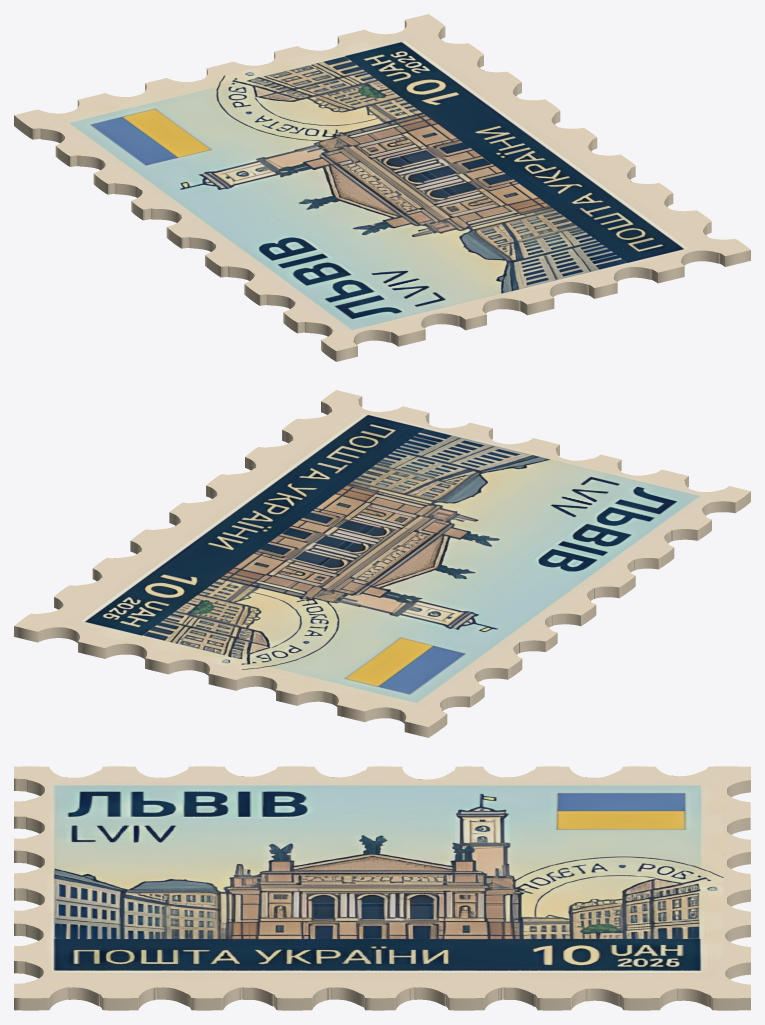
Rendered from Card_Lviv.glb.
3 views of the same model, one above another, from view 1: azimuth 30°, elevation 25°; view 2: azimuth 150°, elevation 25°; view 3: azimuth 270°, elevation 25° (orthographic). The views are drawn at different scales.
Parts seen in each view (by area): view 1: Curve; view 2: Curve; view 3: Curve.
Part boxes in pixels (left/top/right/bottom): Curve: left=14, top=14, right=750, bottom=361; Curve: left=14, top=390, right=750, bottom=737; Curve: left=14, top=766, right=750, bottom=1010.
Bounding box in the file's own units: 124 × 3.07 × 167.
Materials: 1 (1 with a texture image).
